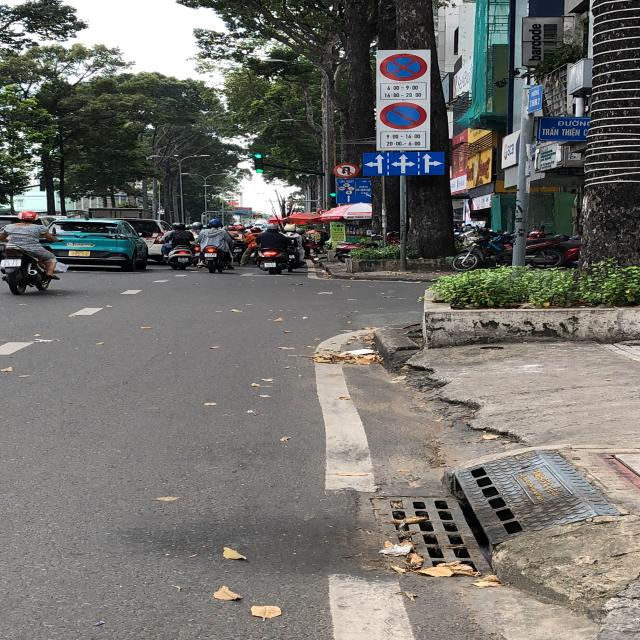Bien bao cam do xe: (378, 101, 432, 131)
Bien bao cam dung xe va do xe: (378, 52, 430, 82)
Bien bao cam quay dau xe: (332, 162, 358, 179)
